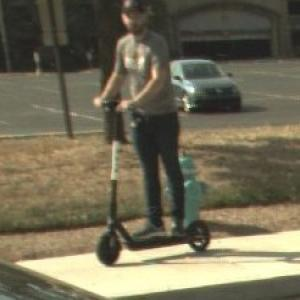with scooter: (92, 0, 210, 267)
